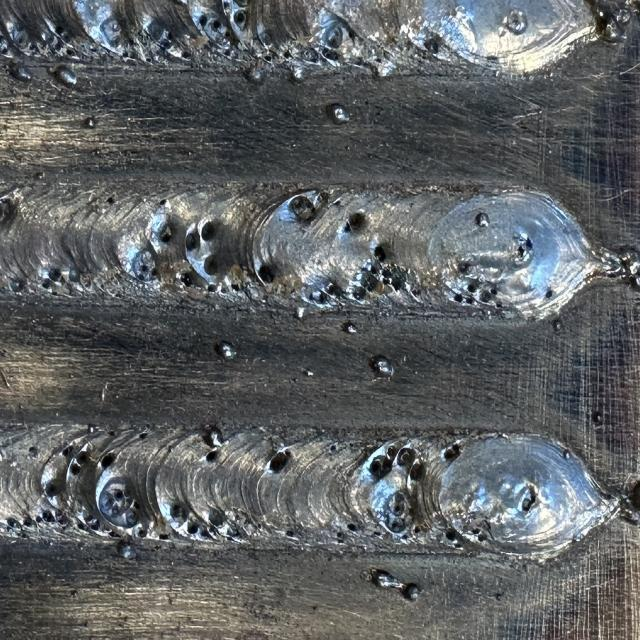Porosity: (373, 532, 384, 540)
Spatters: (0, 194, 11, 204), (88, 118, 97, 126), (37, 173, 44, 181)
